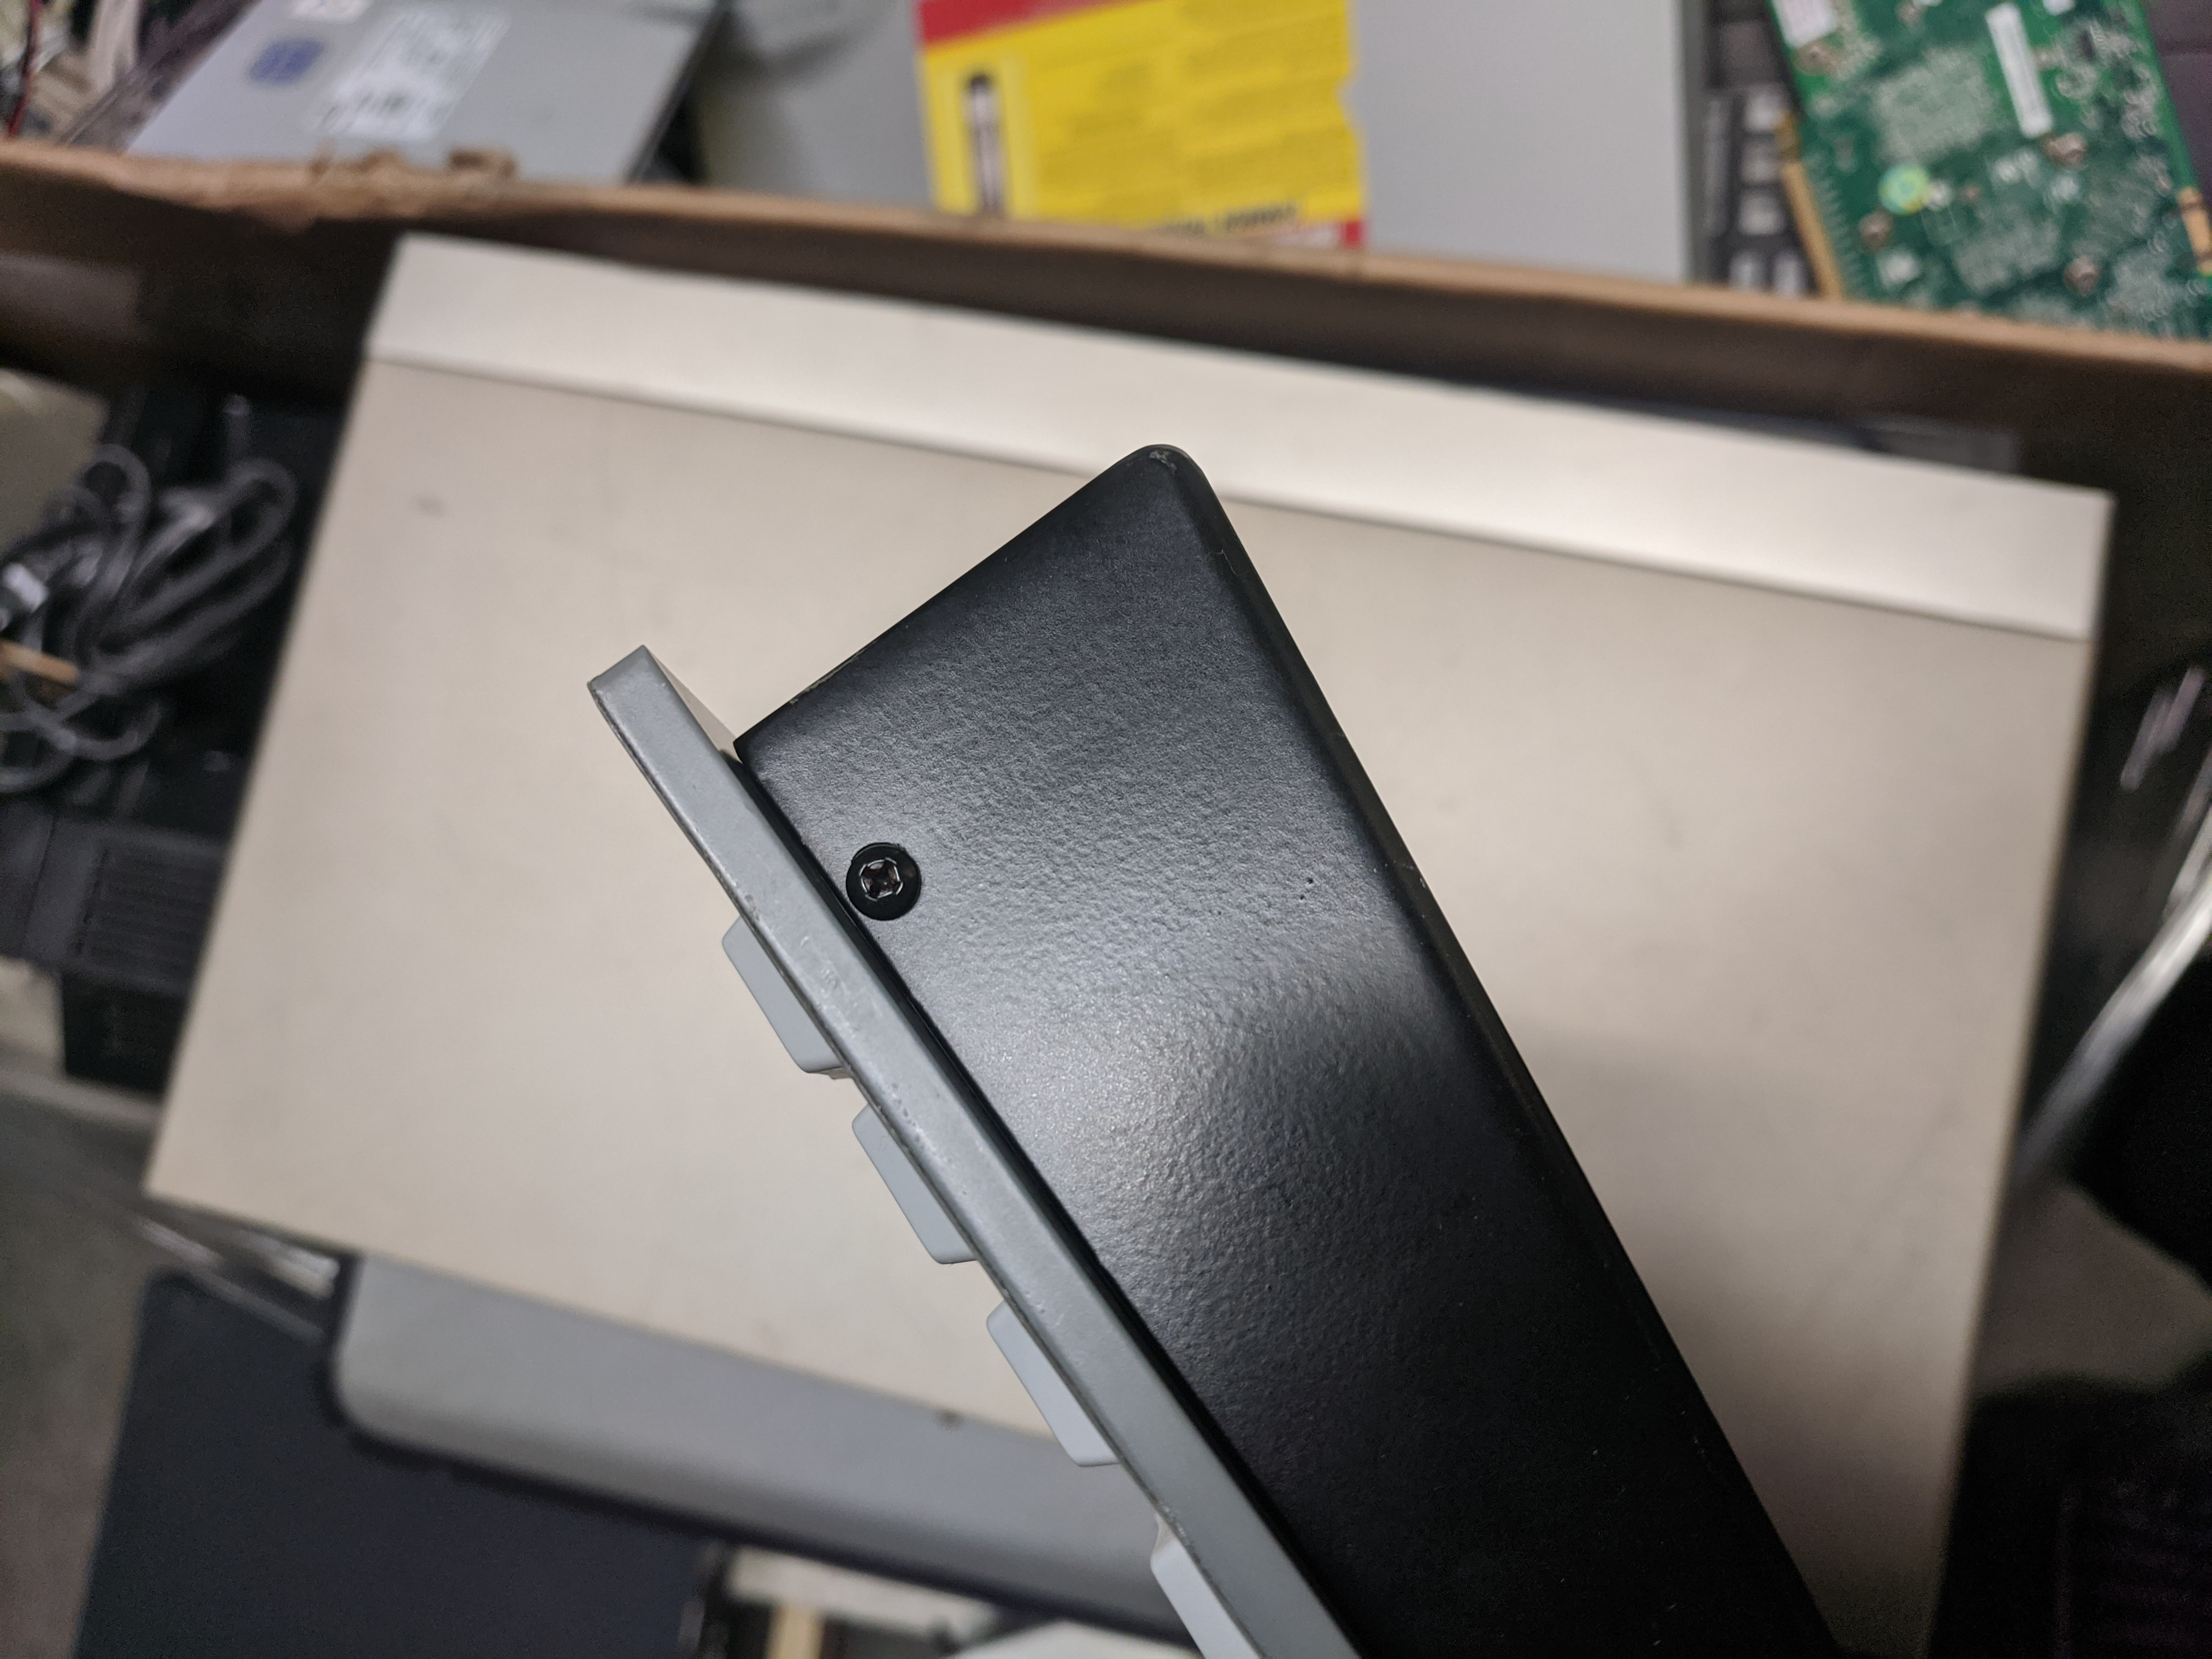cross_recessed_screw: (829, 826, 941, 925)
